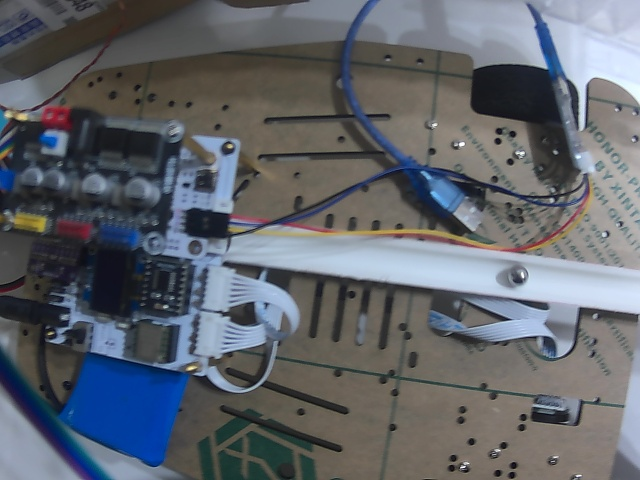steelball: (508, 265, 529, 287)
